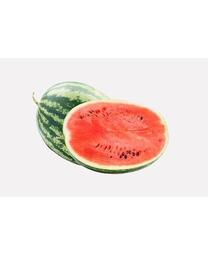watermelon: (30, 80, 166, 173)
